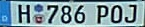character: (17, 3, 31, 24), (123, 3, 137, 23), (96, 4, 109, 24), (110, 4, 123, 24), (73, 4, 86, 23), (46, 4, 58, 24), (60, 4, 72, 24)
